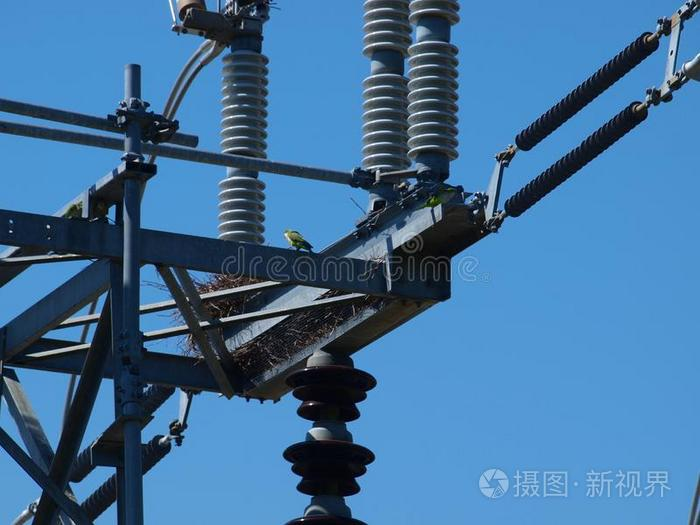insulator: (503, 98, 648, 217), (516, 31, 656, 149)
